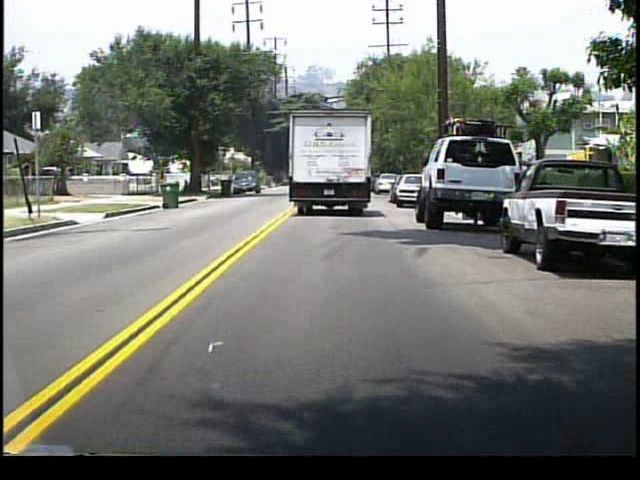person: (158, 168, 169, 194)
